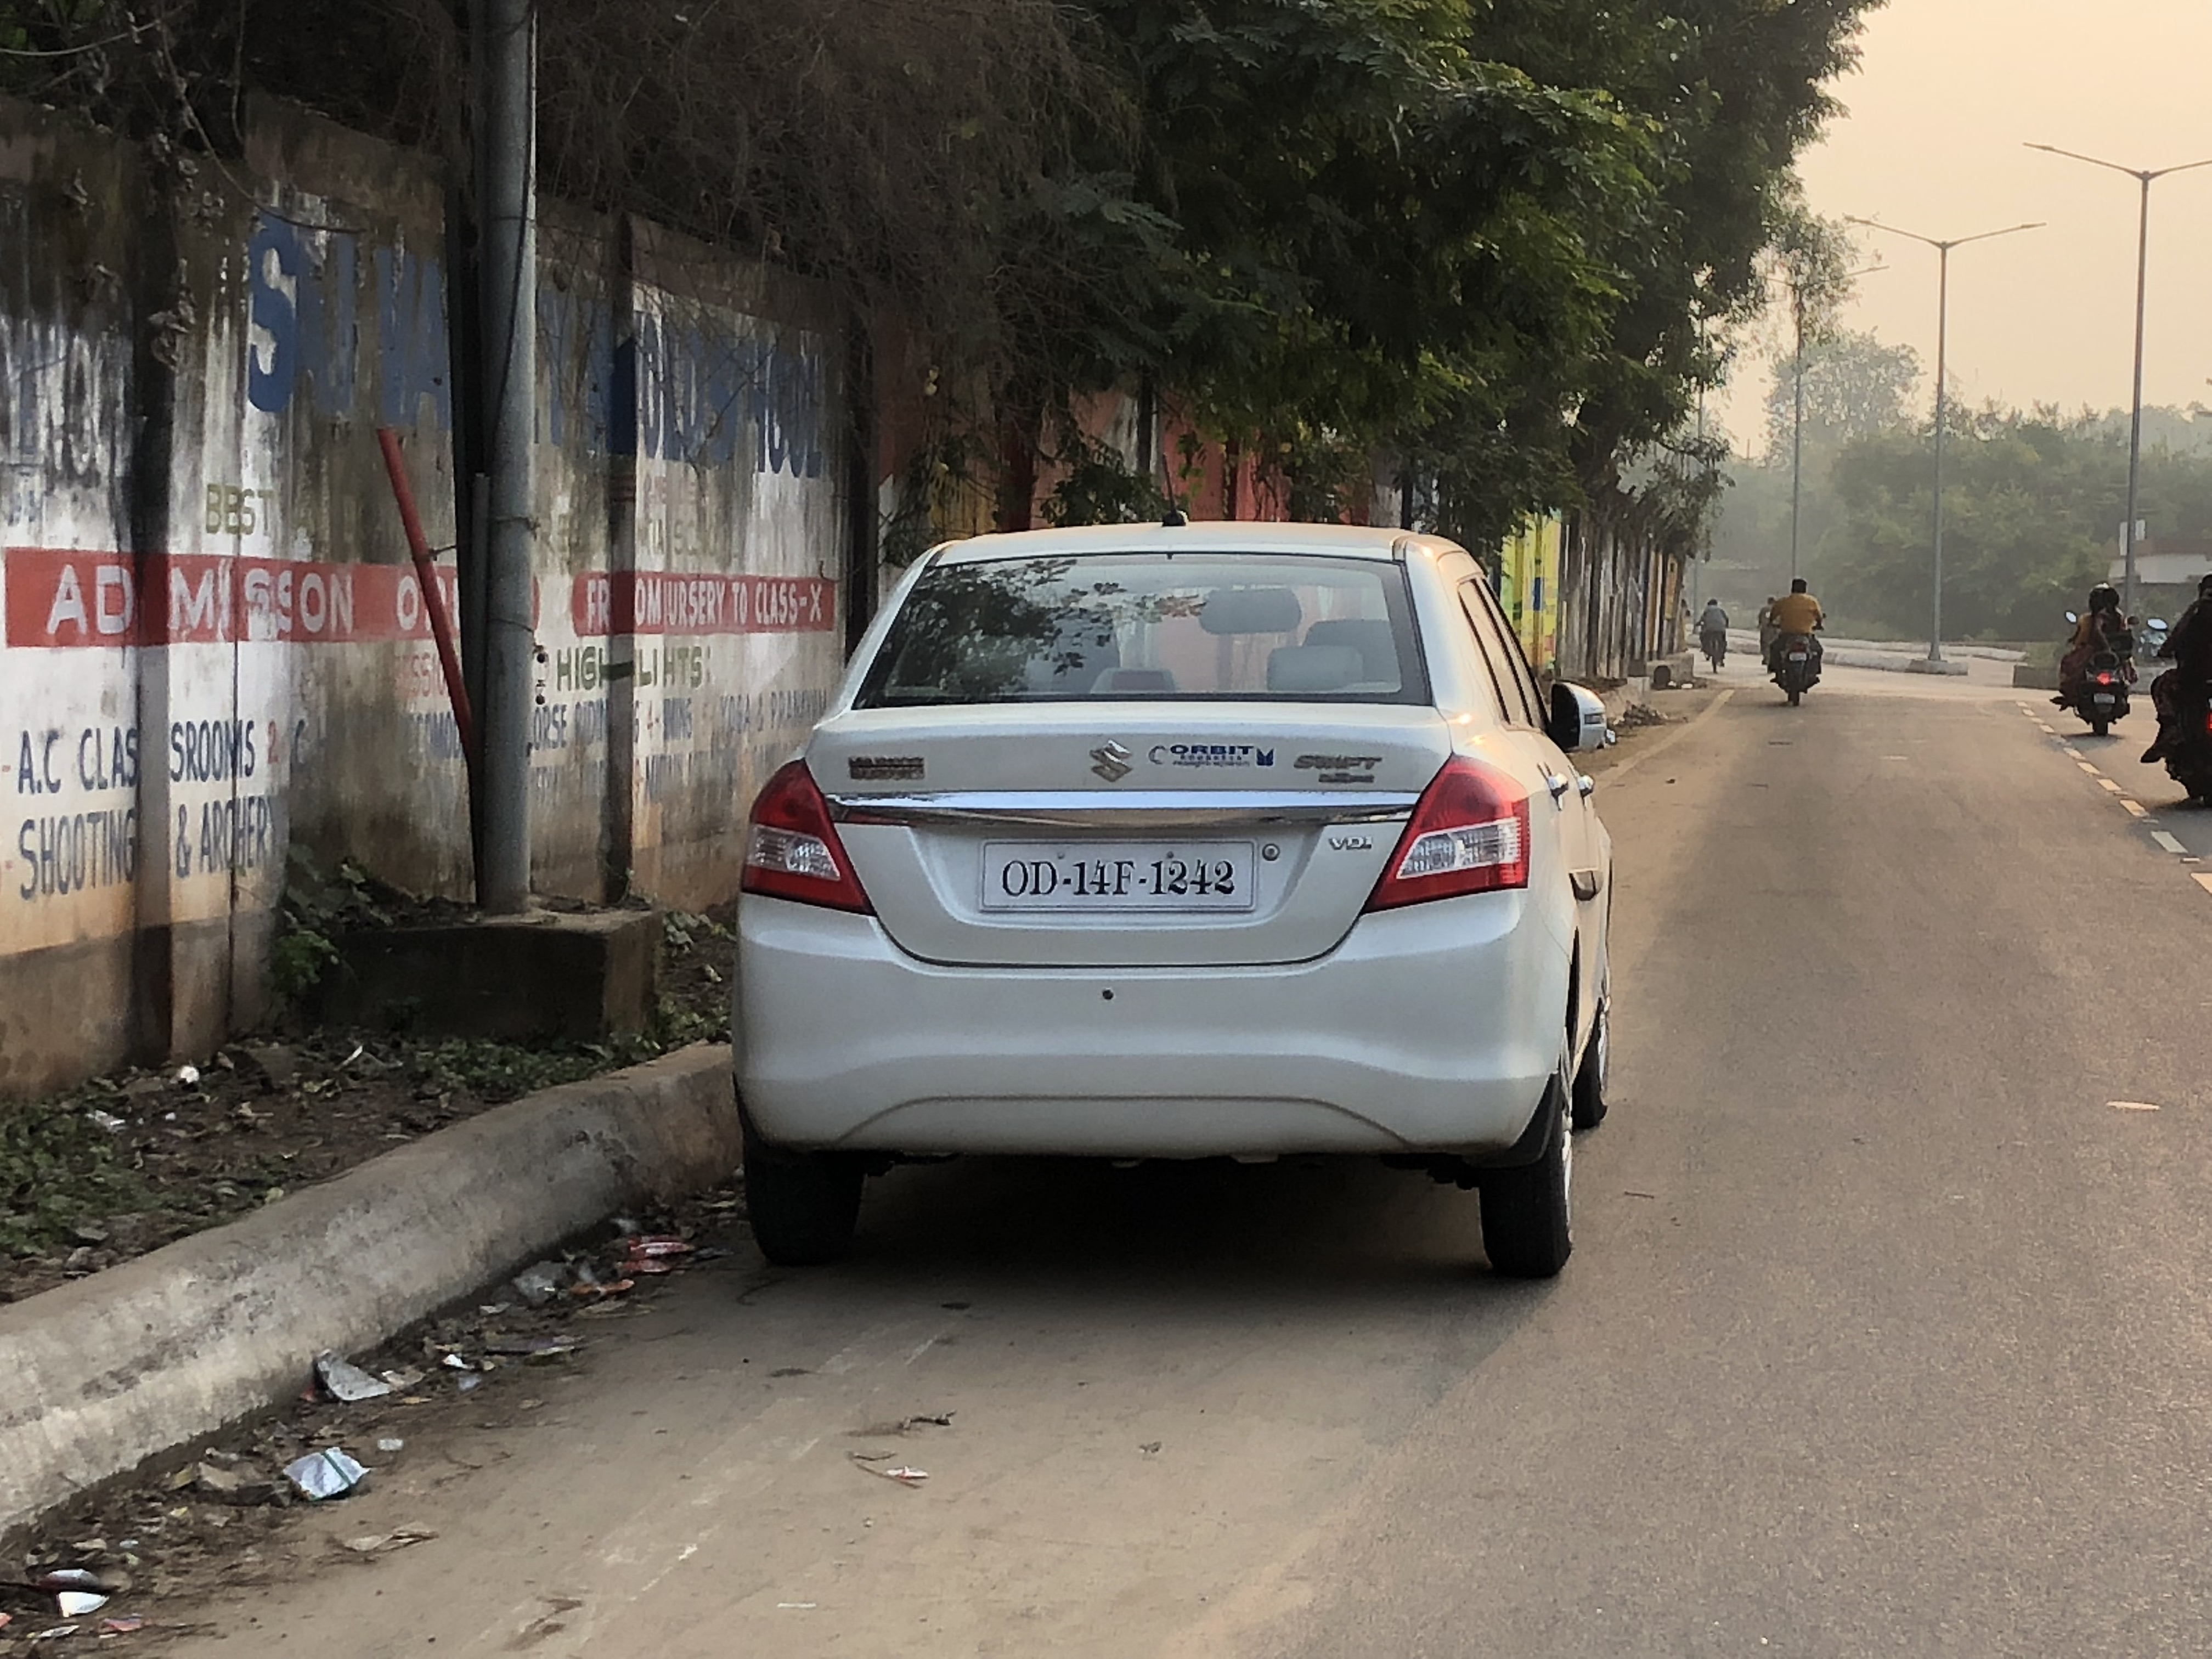licenseplate: (966, 830, 1278, 930)
